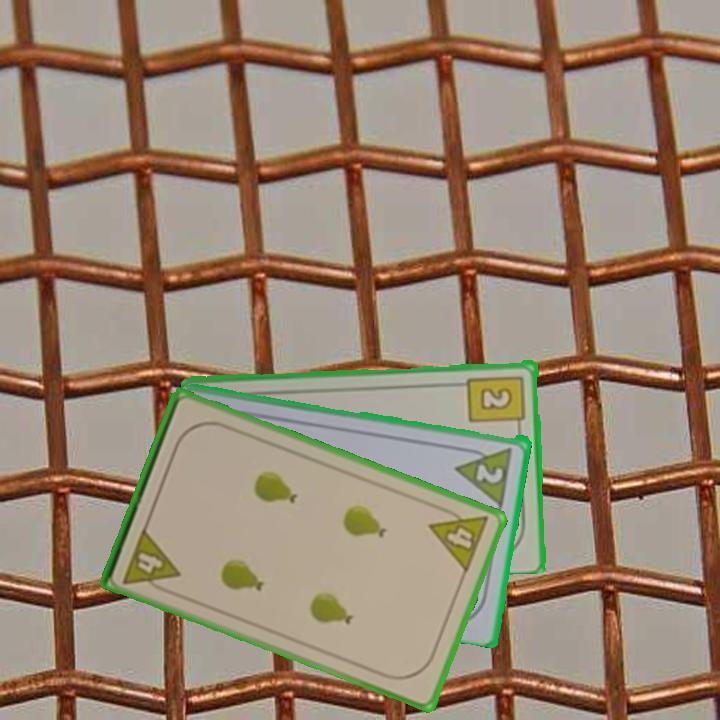2b: (465, 371, 528, 433)
2p: (452, 442, 516, 506)
4p: (425, 501, 492, 576), (119, 524, 184, 597)
